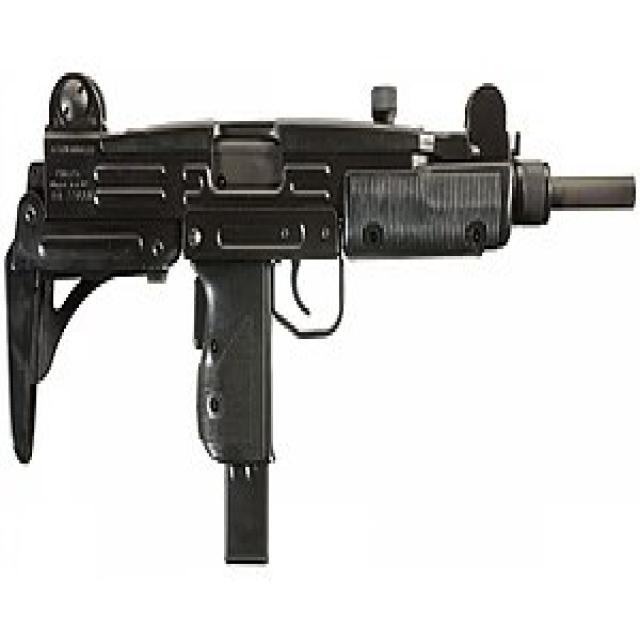firearm: (4, 69, 636, 568)
